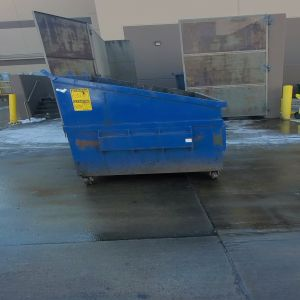Dumpster: (53, 78, 231, 191)
